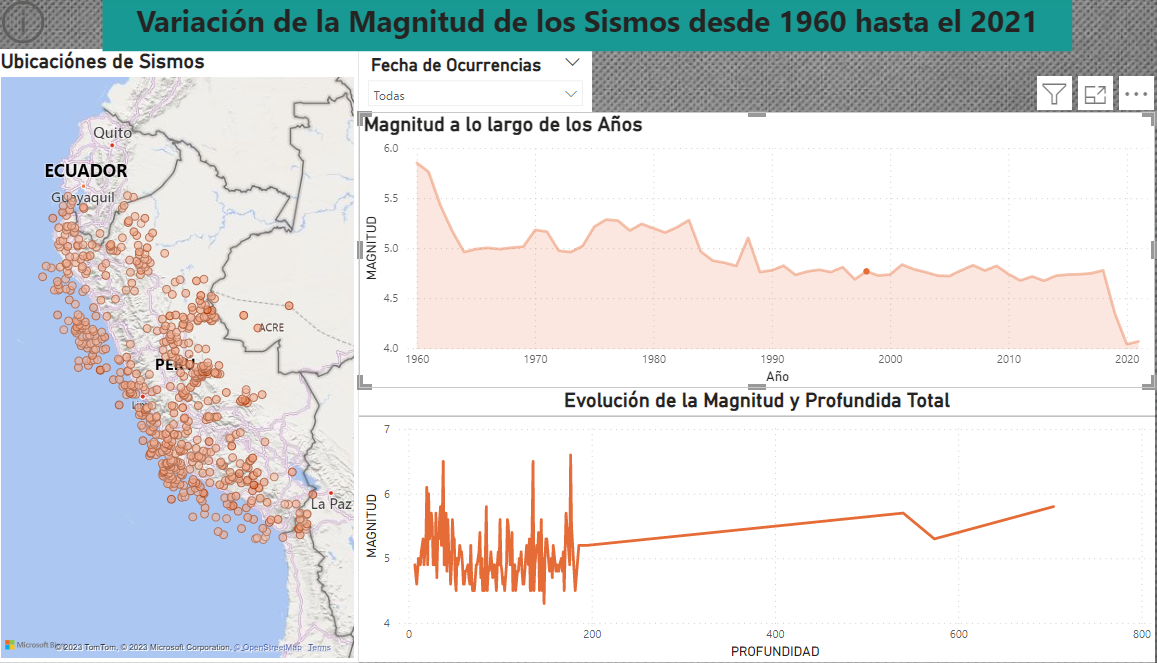

This screenshot's page, from the dashboard's own definition file:
{"tool":"powerbi","page":{"name":"PANEL SISMO","canvas":[1280,720],"ordinal":1},"visuals":[{"type":"map","title":"Ubicaciónes de Sismos","fields":{"Y":["Catalogo1960_2021_limpiado.LATITUD"],"X":["Catalogo1960_2021_limpiado.LONGITUD"]},"box":[0,58.4,391.4,662.1],"z":0},{"type":"slicer","fields":{"Values":["Catalogo1960_2021_limpiado.FECHA_UTC.Variación.Jerarquía de fechas.Año","Catalogo1960_2021_limpiado.FECHA_UTC.Variación.Jerarquía de fechas.Mes","Catalogo1960_2021_limpiado.FECHA_UTC.Variación.Jerarquía de fechas.Día"]},"box":[391.4,58.4,251.2,68.2],"z":1000},{"type":"lineChart","title":"Evolución de la Magnitud y Profundida Total ","fields":{"Y":["Max(Catalogo1960_2021_limpiado.MAGNITUD)"],"Category":["Catalogo1960_2021_limpiado.PROFUNDIDAD"]},"box":[391.4,424.5,858.7,296],"z":2000},{"type":"actionButton","box":[0,0,77.5,58.6],"z":3000},{"type":"textbox","box":[114.9,0,1045.7,60.4],"z":4000},{"type":"areaChart","title":"Magnitud a lo largo de los Años","fields":{"Y":["Avg(Catalogo1960_2021_limpiado.MAGNITUD)"],"Category":["Catalogo1960_2021_limpiado.FECHA_UTC.Variación.Jerarquía de fechas.Año"]},"box":[391.4,126.6,858.7,297.9],"z":6000}]}

Visuals, with their boxes in screenshot pixels (x1, y1, x2, y2), scaled from the page's 1280x720 canvas onto the 1157x663 screenshot:
"Ubicaciónes de Sismos" map: <bbox>0, 54, 354, 662</bbox>
slicer - Catalogo1960_2021_limpiado.FECHA_UTC.Variación.Jerarquía de fechas.Año x Catalogo1960_2021_limpiado.FECHA_UTC.Variación.Jerarquía de fechas.Mes: <bbox>354, 54, 581, 117</bbox>
"Evolución de la Magnitud y Profundida Total " lineChart: <bbox>354, 391, 1130, 662</bbox>
actionButton: <bbox>0, 0, 70, 54</bbox>
textbox: <bbox>104, 0, 1049, 56</bbox>
"Magnitud a lo largo de los Años" areaChart: <bbox>354, 117, 1130, 391</bbox>
